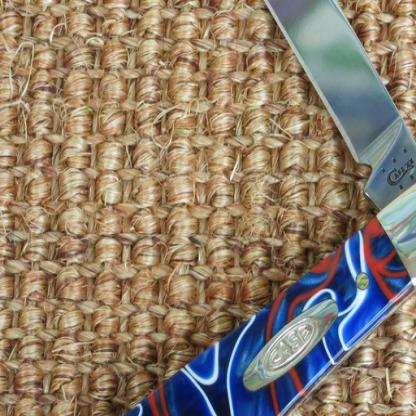knife: (5, 0, 415, 415)
